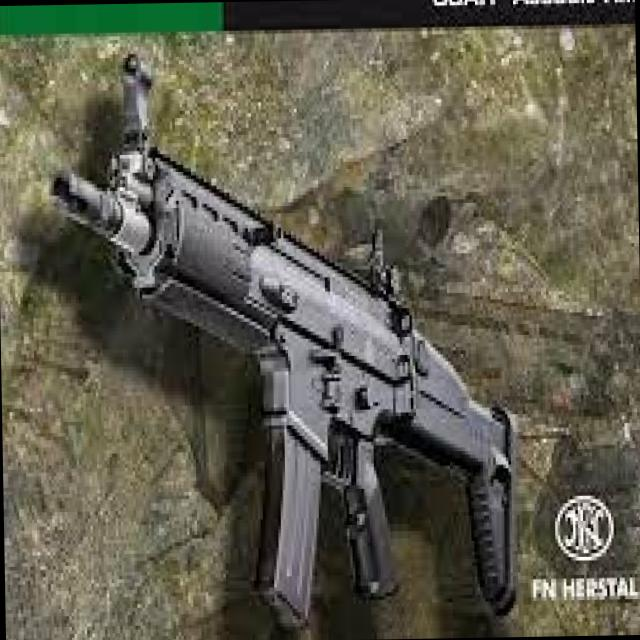Gun: (41, 64, 566, 640)
